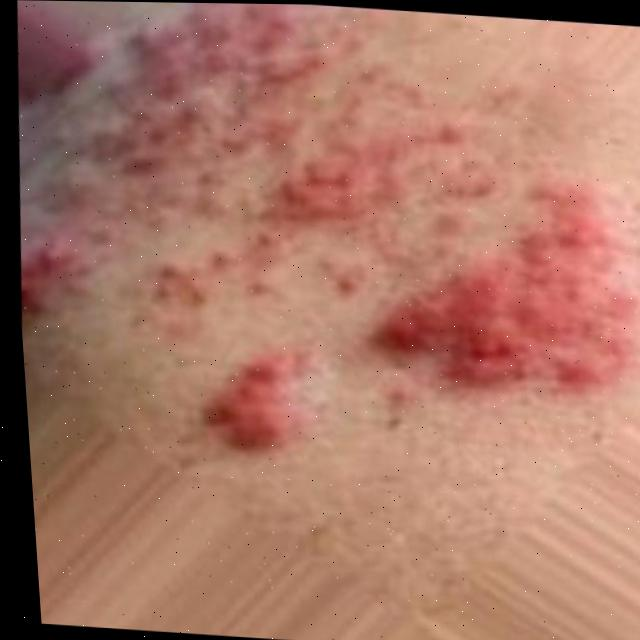Shingles: (0, 0, 640, 473)
